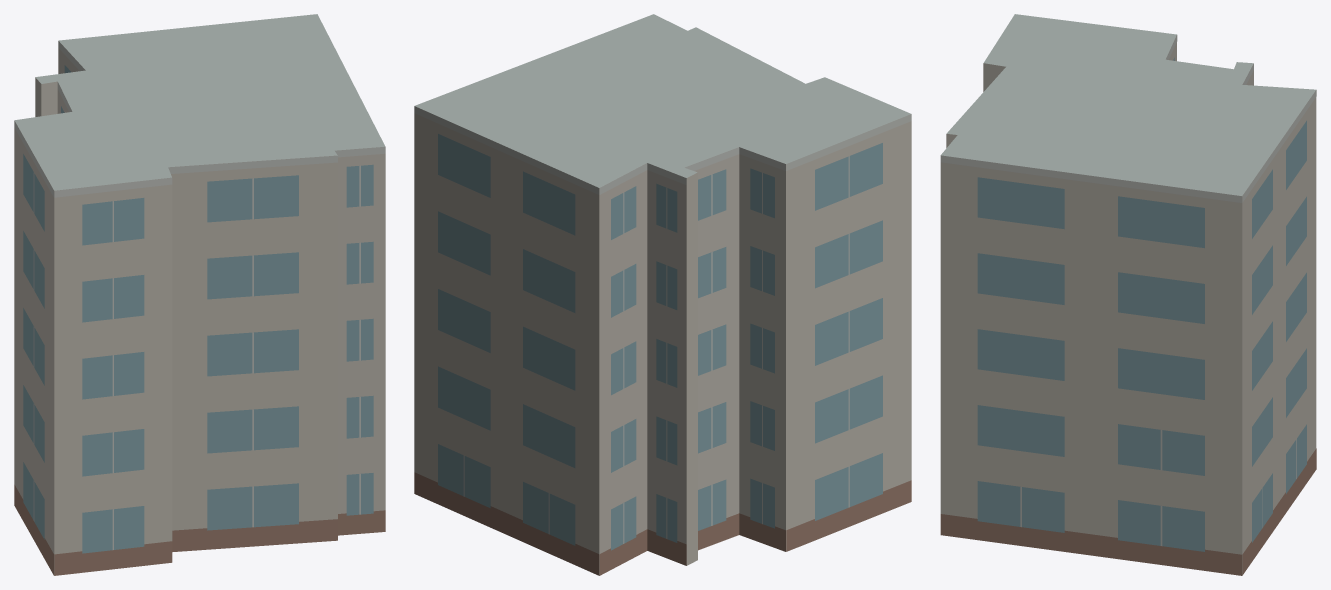
Rendered from survey-upis-32533308.glb.
The picture shows the model from 3 angles, left to right: view 1: azimuth 30°, elevation 25°; view 2: azimuth 150°, elevation 25°; view 3: azimuth 270°, elevation 25°; orthographic projection. The views are drawn at different scales.
Visible parts, largest first — view 1: survey-upis-32533308.tmp; view 2: survey-upis-32533308.tmp; view 3: survey-upis-32533308.tmp.
Boxes of the visible parts, <box> form: survey-upis-32533308.tmp: <box>14,14,385,575</box>; survey-upis-32533308.tmp: <box>414,14,911,575</box>; survey-upis-32533308.tmp: <box>940,14,1316,575</box>.
Bounding box in the file's own units: 13.8 × 13.4 × 12.03.
